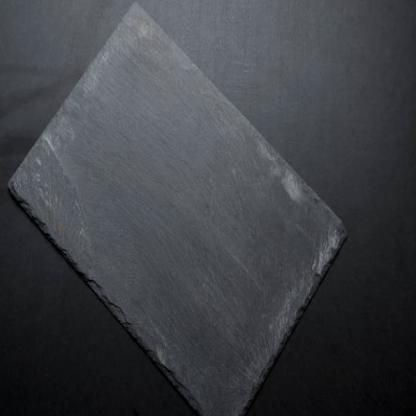Metamorphic_Marble: (5, 0, 347, 415)
